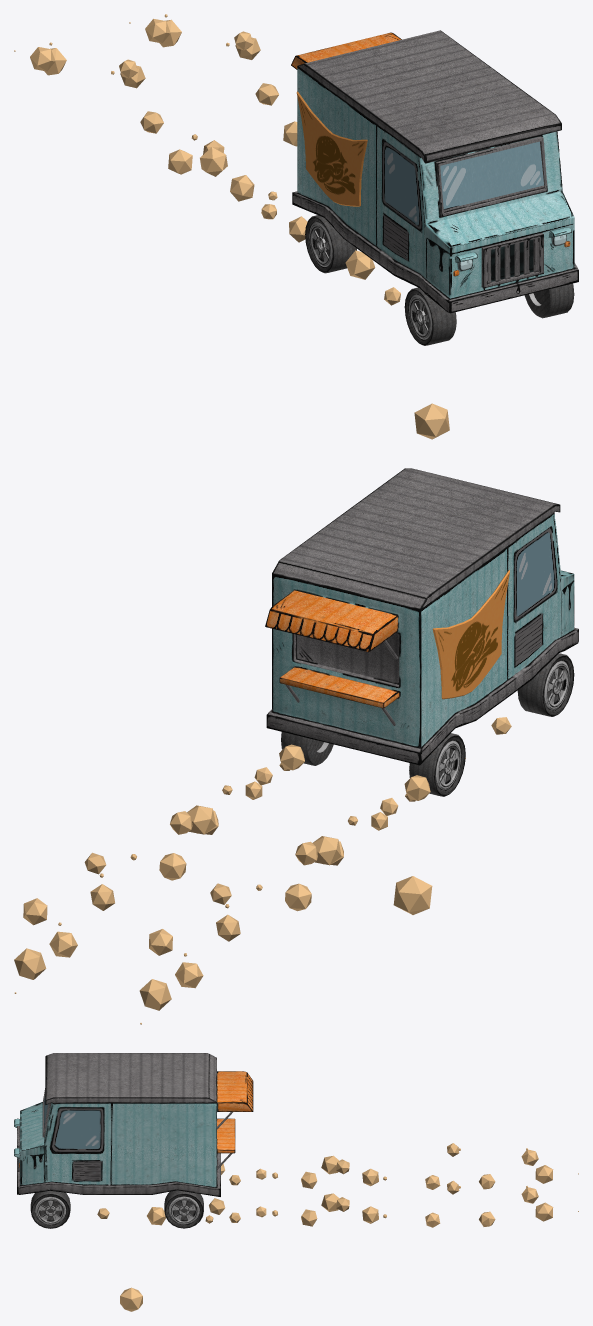
Rendered from burger boy2.glb.
3 renders of one model, top to bottom at view 1: azimuth 30°, elevation 25°; view 2: azimuth 150°, elevation 25°; view 3: azimuth 270°, elevation 25°, orthographic. The views are drawn at different scales.
Visible parts, largest first — view 1: truck_truck, truck_tire, truck_tire4.001, Dust (×3), truck_tire.001; view 2: truck_truck, truck_tire, truck_tire.001, Dust (×3), truck_tire4.001; view 3: truck_truck, truck_tire4.001, truck_tire.001, Dust.
Boxes of the visible parts, x1,y1,x2,y2 form: truck_truck: (291, 30, 578, 313); truck_tire: (296, 91, 367, 206); truck_tire4.001: (404, 283, 574, 345); Dust (×3): (200, 147, 449, 439); truck_tire.001: (305, 215, 356, 273); truck_truck: (265, 468, 578, 765); truck_tire: (432, 570, 509, 699); truck_tire.001: (281, 732, 465, 796); Dust (×3): (14, 876, 432, 1010); truck_tire4.001: (517, 653, 574, 716); truck_truck: (14, 1053, 253, 1196); truck_tire4.001: (30, 1190, 70, 1228); truck_tire.001: (164, 1190, 203, 1228); Dust: (120, 1287, 142, 1311).
Size of the model in its own units: 2.01 by 3.5 by 7.61.
Materials: 4 (3 with a texture image).
